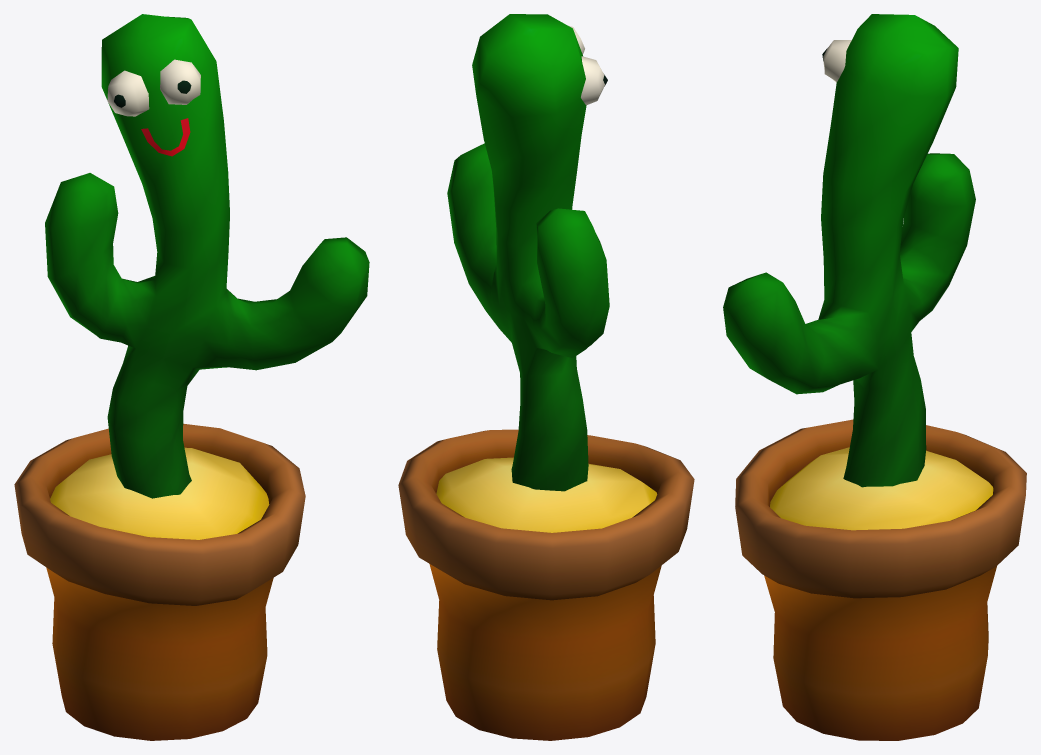
The model's file is Cactus.fbx.
The picture shows the model from 3 angles, left to right: view 1: azimuth 30°, elevation 25°; view 2: azimuth 150°, elevation 25°; view 3: azimuth 270°, elevation 25°; orthographic projection.
Visible parts, largest first — view 1: Cactus; view 2: Cactus; view 3: Cactus.
Boxes of the visible parts, x1,y1,x2,y2 form: Cactus: (14,14,369,740); Cactus: (398,14,694,740); Cactus: (723,14,1026,740).
Bounding box in the file's own units: 1862 × 4370 × 1760.
1 material, 1 textured.
